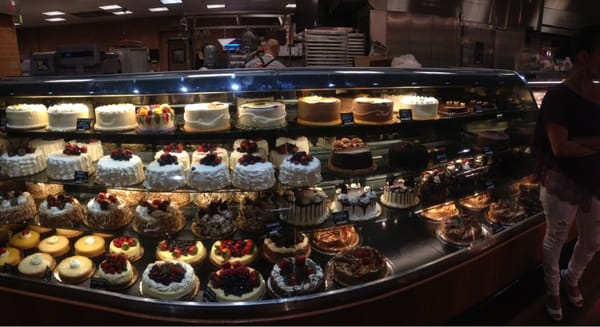salad: (141, 261, 199, 301)
sushi: (325, 245, 391, 287), (268, 255, 325, 297), (207, 263, 265, 302), (94, 150, 146, 189), (261, 222, 310, 263), (327, 135, 374, 177), (282, 186, 331, 225), (86, 191, 133, 231), (310, 222, 360, 256), (278, 152, 323, 187), (296, 92, 342, 125), (209, 238, 259, 268), (379, 174, 421, 209), (146, 153, 184, 191), (234, 158, 277, 191), (388, 141, 430, 173), (351, 95, 395, 124), (410, 96, 439, 120)
